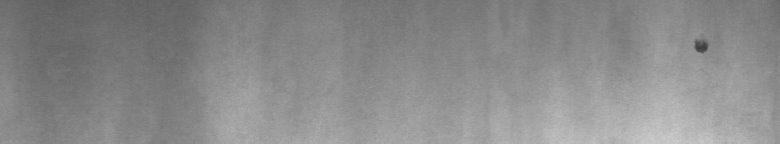fi: (689, 31, 712, 60)
